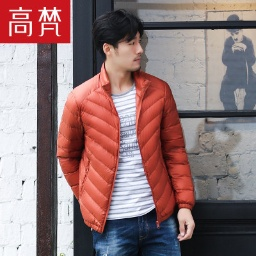face: (96, 10, 145, 74)
